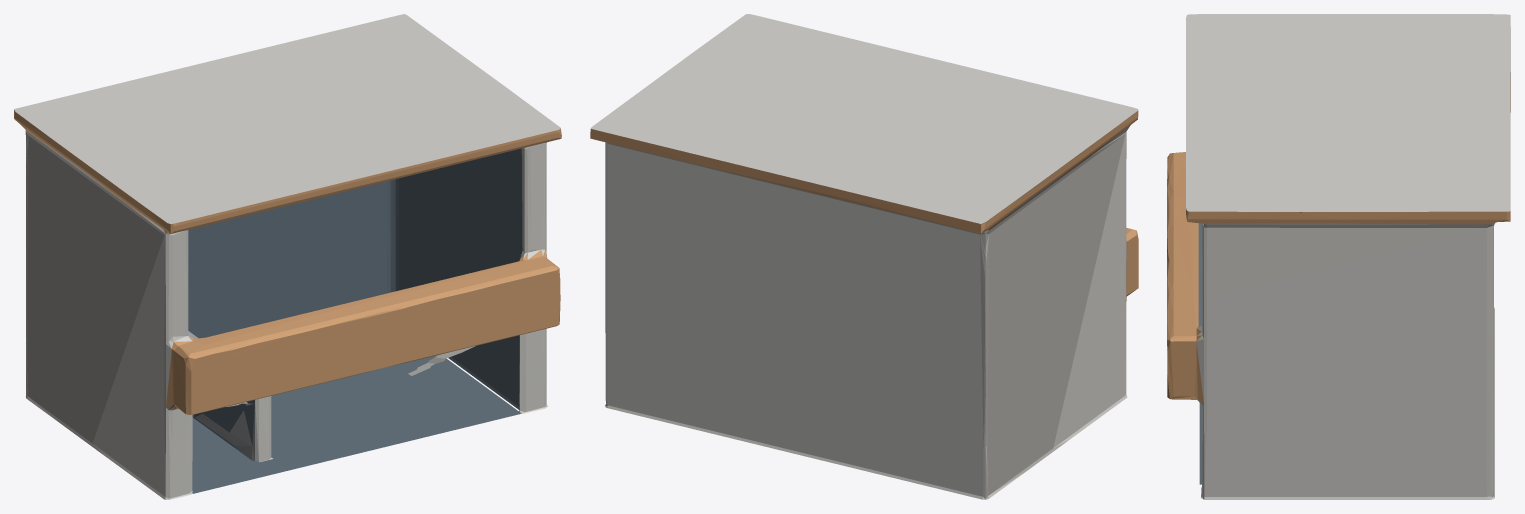
File: etape-1.glb
The picture shows the model from 3 angles, left to right: view 1: azimuth 30°, elevation 25°; view 2: azimuth 150°, elevation 25°; view 3: azimuth 270°, elevation 25°; orthographic projection. The views are drawn at different scales.
Visible parts, largest first — view 1: geometry_0; view 2: geometry_0; view 3: geometry_0.
Boxes of the visible parts, x1,y1,x2,y2 form: geometry_0: [14, 14, 561, 499]; geometry_0: [590, 14, 1138, 499]; geometry_0: [1167, 14, 1510, 499].
Size of the model in its own units: 0.8983 by 0.6163 by 0.6592.
